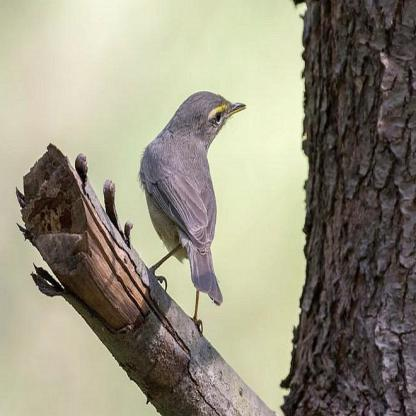Burung: (137, 92, 249, 325)
